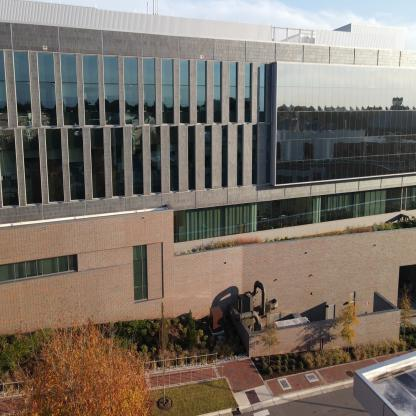Fitts- Woolard: (0, 1, 415, 404)
